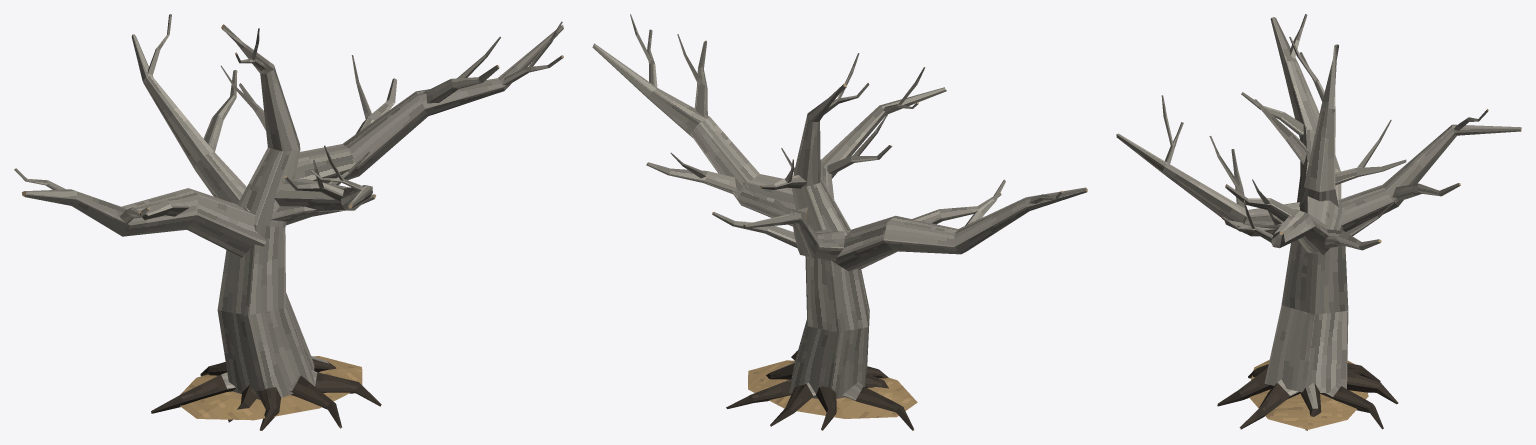
Rendered from spreading-oak.glb.
3 views of the same model, side by side, from view 1: azimuth 30°, elevation 25°; view 2: azimuth 150°, elevation 25°; view 3: azimuth 270°, elevation 25° (orthographic). The views are drawn at different scales.
Parts seen in each view (by area): view 1: spreading-oak; view 2: spreading-oak; view 3: spreading-oak.
Part boxes in pixels (<box>): spreading-oak: <box>14,14,563,430</box>; spreading-oak: <box>592,14,1087,430</box>; spreading-oak: <box>1116,14,1521,430</box>.
Bounding box in the file's own units: 9.15 × 6.13 × 6.43.
4 materials, 4 textured.
